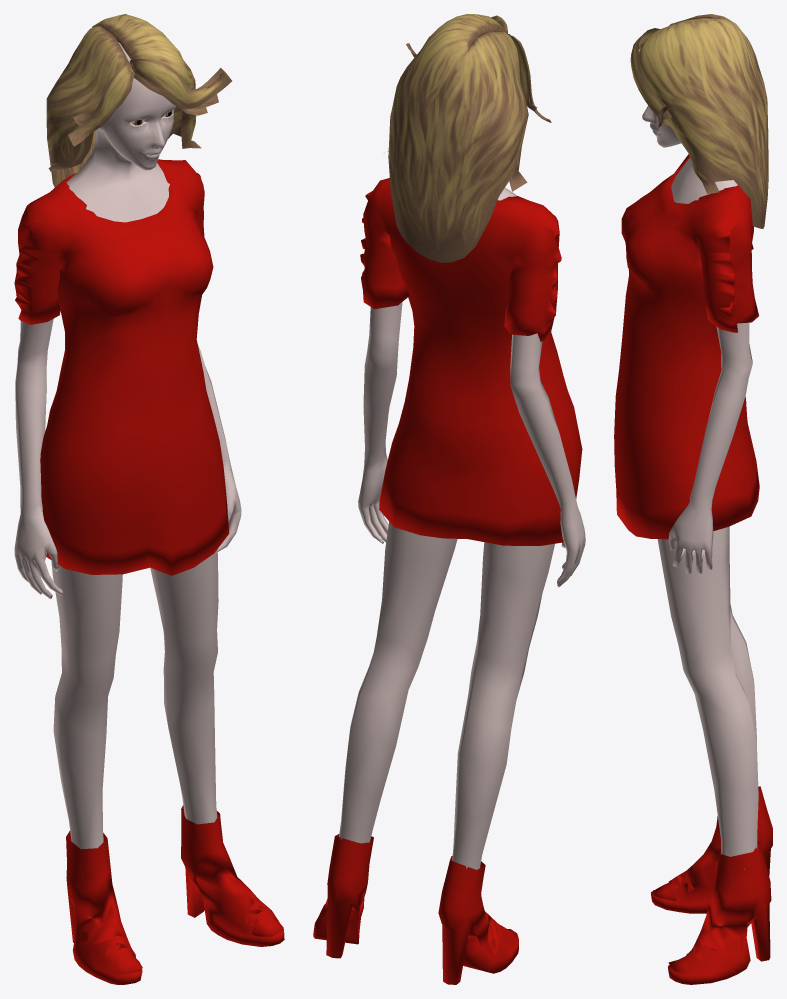
Rendered from Doll 2.FBX.
3 views of the same model, side by side, from view 1: azimuth 30°, elevation 25°; view 2: azimuth 150°, elevation 25°; view 3: azimuth 270°, elevation 25° (orthographic). The views are drawn at different scales.
Parts seen in each view (by area): view 1: Dool 2; view 2: Dool 2; view 3: Dool 2.
Part boxes in pixels (x1,y1,x2,y2): Dool 2: (14, 14, 284, 984); Dool 2: (313, 14, 585, 984); Dool 2: (614, 14, 772, 984).
Size of the model in its own units: 0.3602 by 0.2005 by 1.26.
